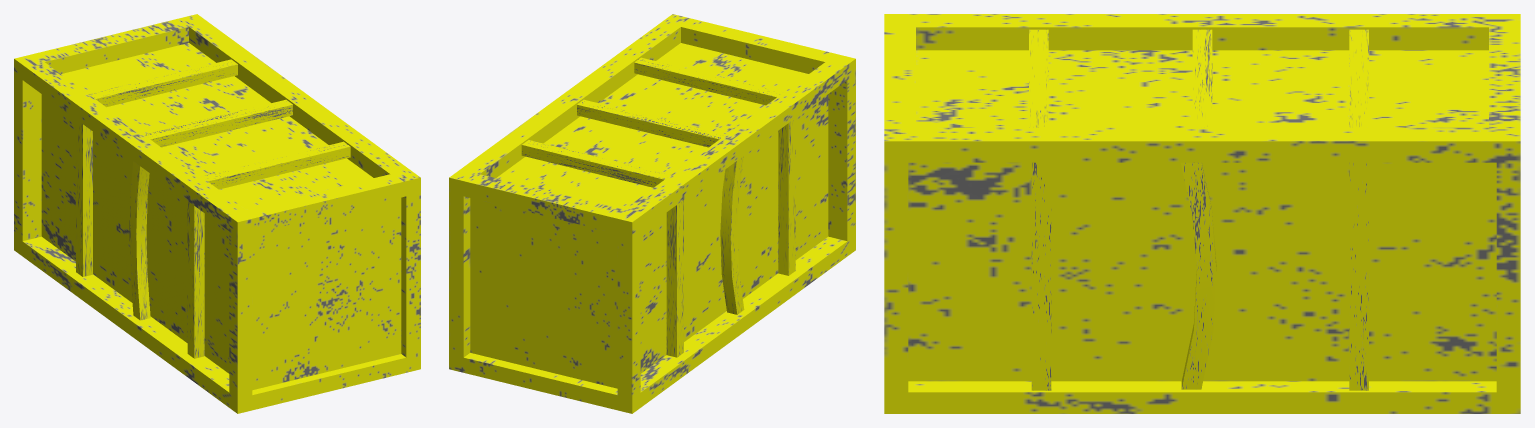
Rendered from cabnnn.fbx.
The picture shows the model from 3 angles, left to right: view 1: azimuth 30°, elevation 25°; view 2: azimuth 150°, elevation 25°; view 3: azimuth 270°, elevation 25°; orthographic projection. The views are drawn at different scales.
Parts seen in each view (by area): view 1: pCube1, pCube9, pCube8, pCube10, pCube3, pCube2, pCube4; view 2: pCube1, pCube8, pCube9, pCube10, pCube4, pCube3, pCube2; view 3: pCube1, pCube6, pCube7, pCube5, pCube2, pCube3, pCube4.
Boxes of the visible parts, x1,y1,x2,y2 form: pCube1: [14, 14, 420, 413]; pCube9: [129, 161, 150, 320]; pCube8: [187, 201, 204, 358]; pCube10: [76, 119, 92, 276]; pCube3: [201, 141, 350, 189]; pCube2: [144, 99, 292, 147]; pCube4: [88, 59, 237, 107]; pCube1: [449, 14, 855, 413]; pCube8: [778, 118, 795, 275]; pCube9: [720, 156, 744, 314]; pCube10: [666, 200, 683, 357]; pCube4: [521, 140, 670, 187]; pCube3: [634, 57, 783, 105]; pCube2: [577, 99, 725, 147]; pCube1: [884, 14, 1520, 413]; pCube6: [1180, 162, 1216, 389]; pCube7: [1031, 162, 1051, 390]; pCube5: [1349, 162, 1368, 390]; pCube2: [1192, 29, 1212, 127]; pCube3: [1029, 29, 1048, 127]; pCube4: [1349, 29, 1368, 127].
Bounding box in the file's own units: 3.78 × 3.78 × 8.
1 material, 1 textured.
